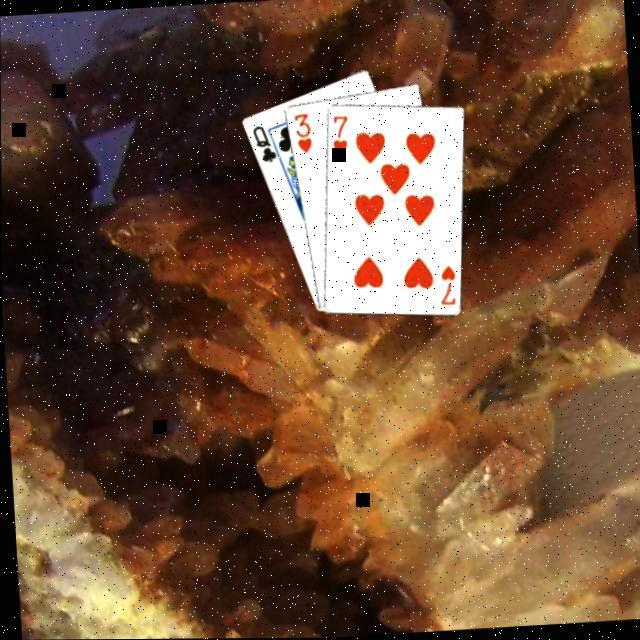3H: (290, 112, 312, 158)
7H: (432, 264, 457, 310), (326, 114, 350, 160)
QC: (247, 125, 277, 168)
